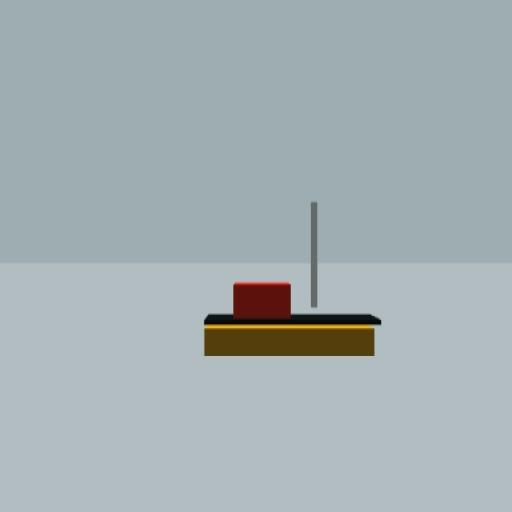vessel: (204, 199, 384, 360)
